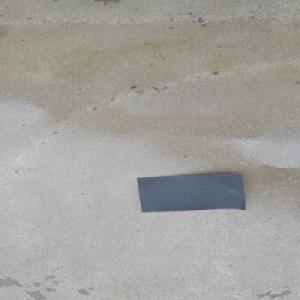PaintChip: (136, 172, 247, 212)
